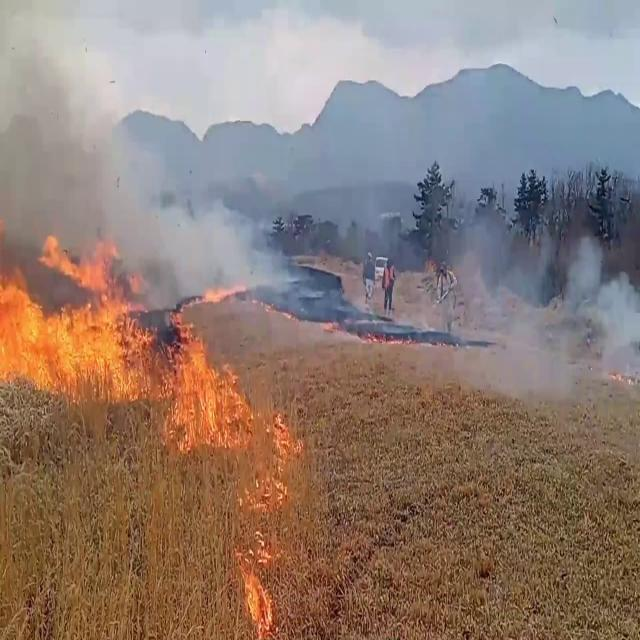Fire: (0, 222, 156, 395), (166, 302, 252, 457), (246, 402, 305, 618)
Smoke: (0, 15, 295, 318), (436, 184, 640, 420)
